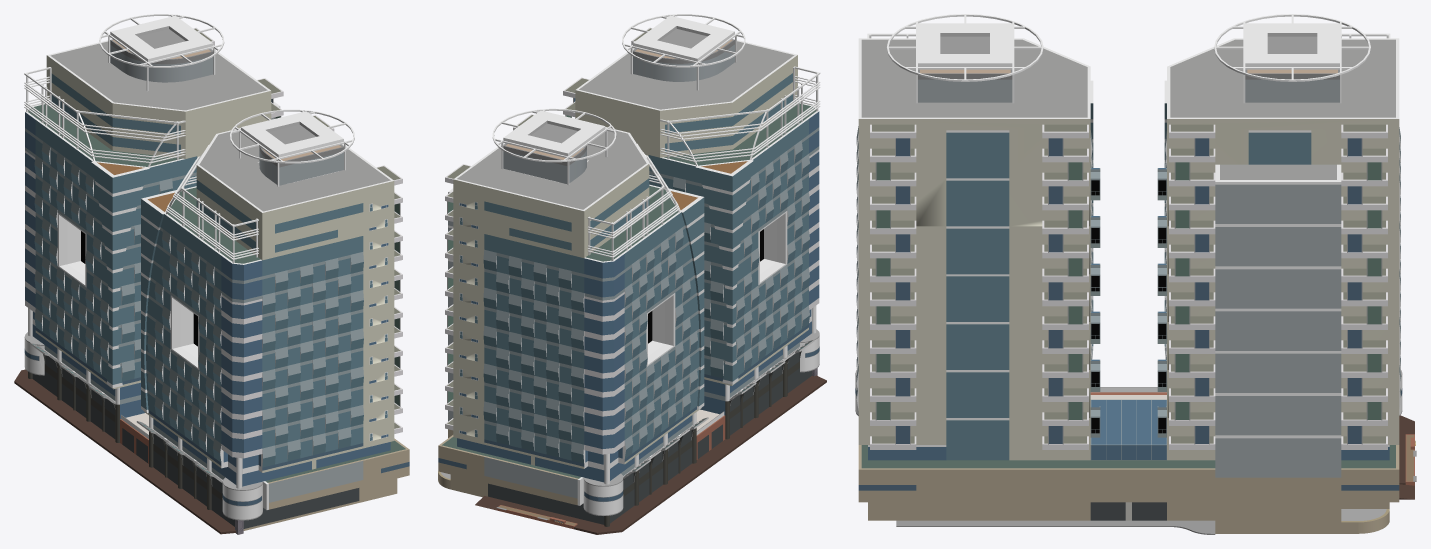
File: aaaaaatest.fbx
The picture shows the model from 3 angles, left to right: view 1: azimuth 30°, elevation 25°; view 2: azimuth 150°, elevation 25°; view 3: azimuth 270°, elevation 25°; orthographic projection. The views are drawn at different scales.
Visible parts, largest first — view 1: Twin tower; view 2: Twin tower; view 3: Twin tower.
Boxes of the visible parts, bbox=[...] form: Twin tower: bbox=[14, 14, 409, 534]; Twin tower: bbox=[438, 14, 826, 534]; Twin tower: bbox=[855, 14, 1416, 534].
Size of the model in its own units: 2954 by 5037 by 5850.
